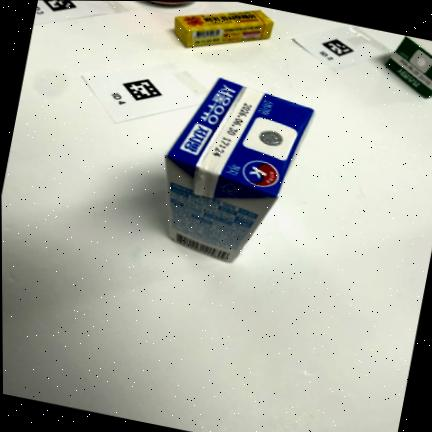milk_blue: (166, 79, 314, 262)
